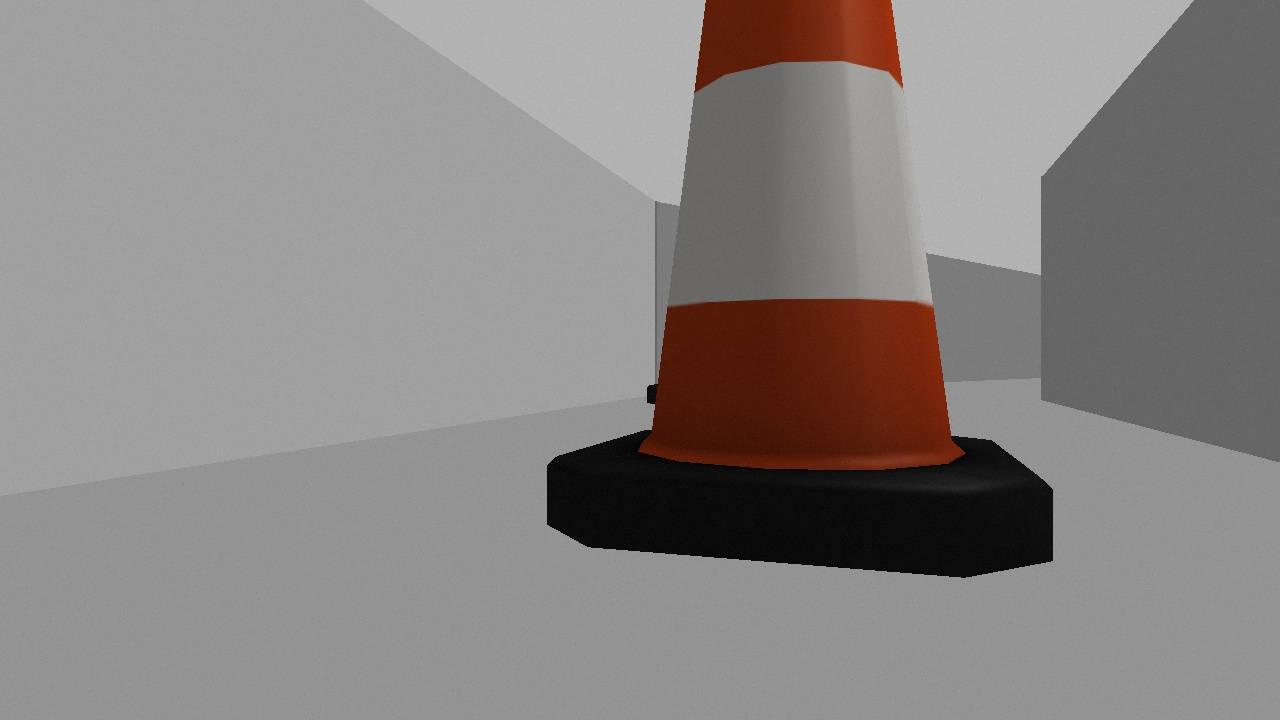barricade: (545, 1, 1053, 577)
